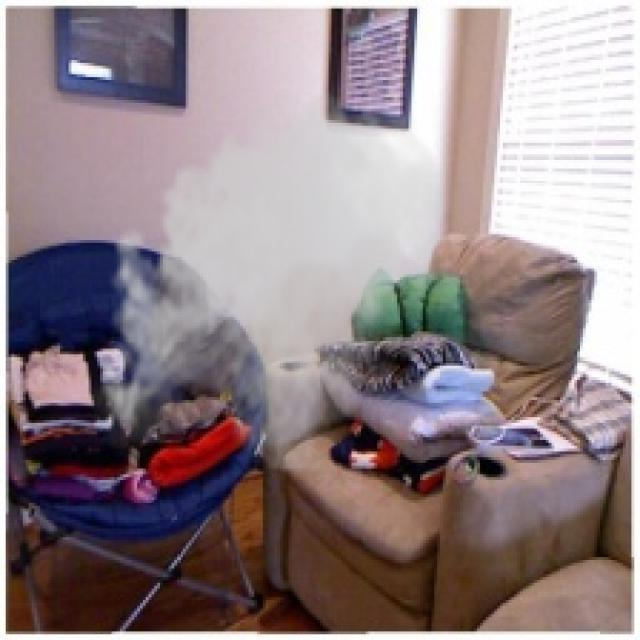Smoke: (88, 80, 454, 474)
